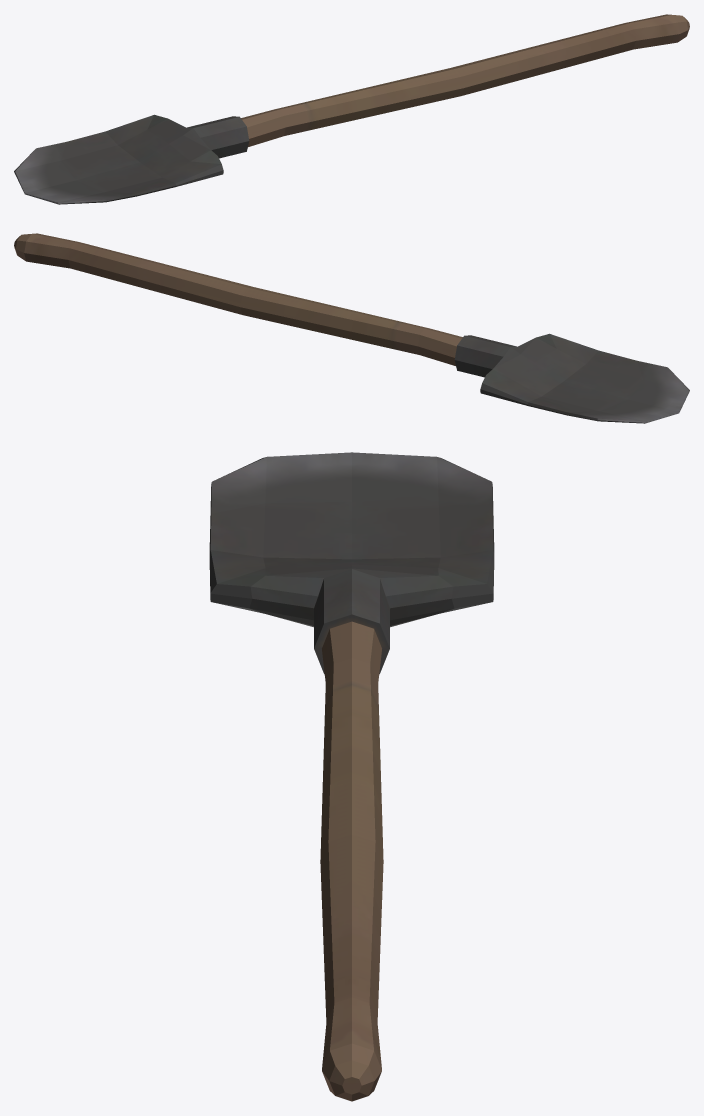
File: Shovel.fbx
3 views of the same model, one above another, from view 1: azimuth 30°, elevation 25°; view 2: azimuth 150°, elevation 25°; view 3: azimuth 270°, elevation 25° (orthographic). The views are drawn at different scales.
Parts seen in each view (by area): view 1: F_shovel; view 2: F_shovel; view 3: F_shovel.
Boxes of the visible parts, x1=… form: F_shovel: x1=14, y1=14, x2=689, y2=204; F_shovel: x1=14, y1=233, x2=689, y2=423; F_shovel: x1=209, y1=452, x2=494, y2=1101.
Bounding box in the file's own units: 0.9762 × 0.0485 × 0.1817.
